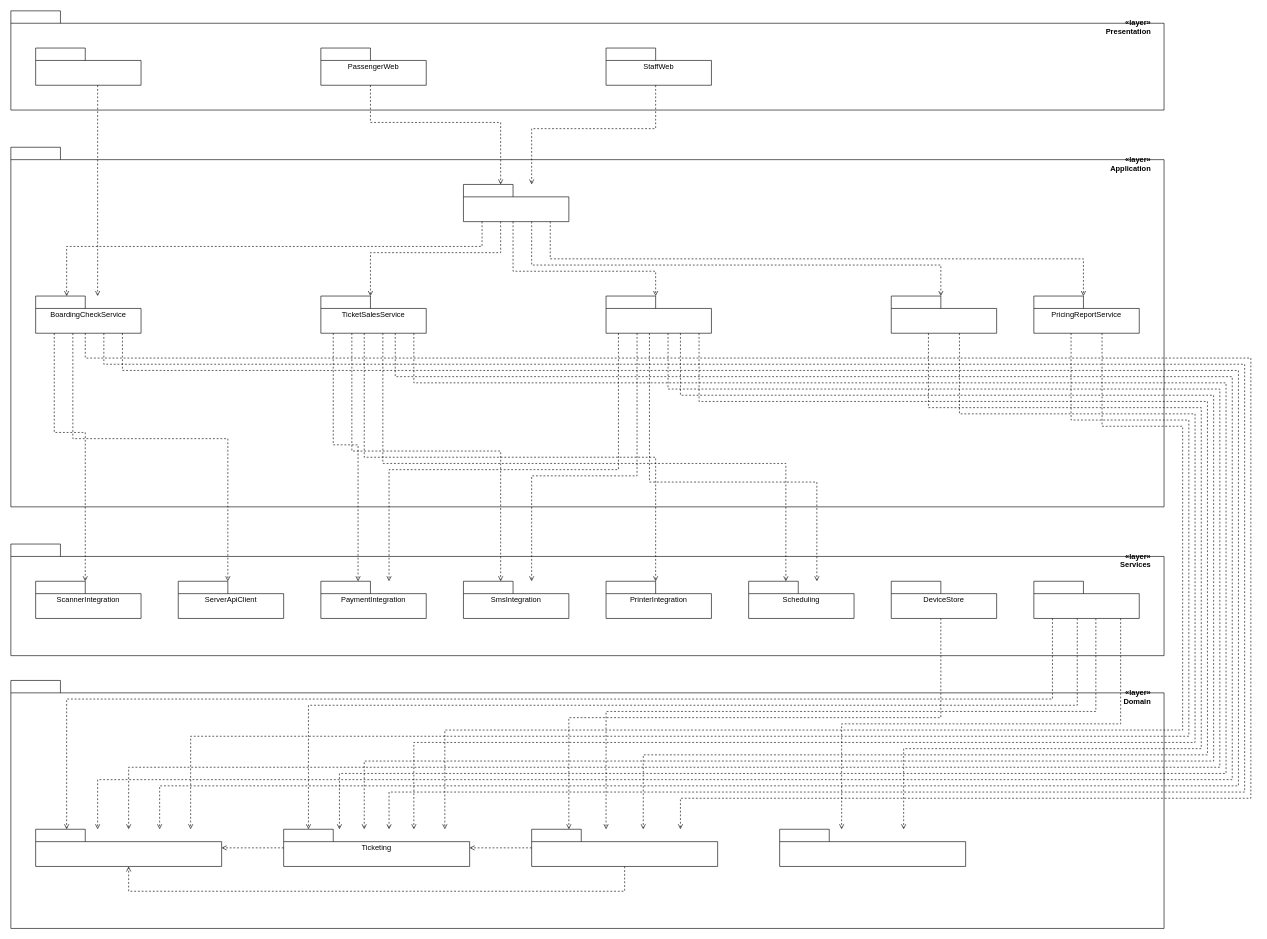
This 1267x939 diagram has some shape labels left out. Each missing label, with the centre of its shape:
AccountModel: the point at 872,847
AccountService: the point at 944,314
BoardingModel: the point at 624,847
CheckerAppUI: the point at 88,66
Persistence: the point at 1086,599
RestApi: the point at 516,203
TripCatalog: the point at 128,847
TripOperationsService: the point at 658,314
